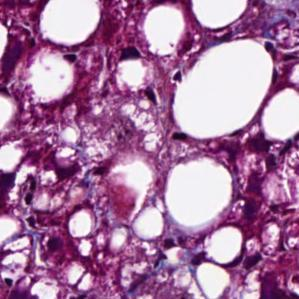inflammation: (40, 153, 115, 190), (242, 123, 280, 181), (110, 38, 147, 64), (240, 249, 266, 281)
